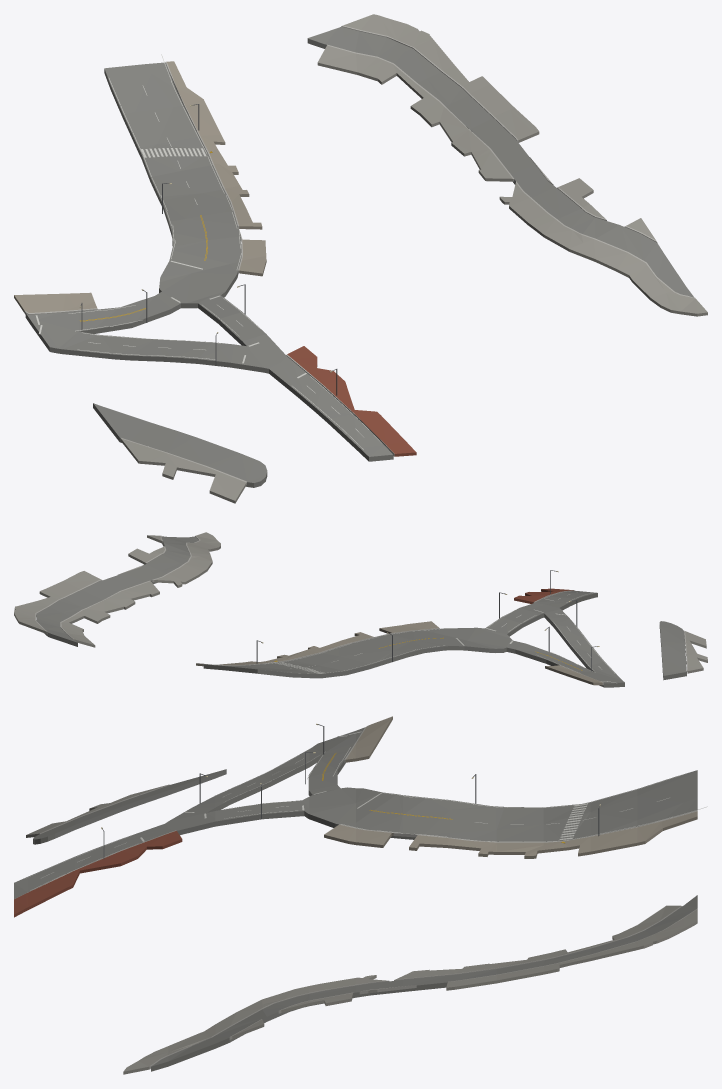
3 renders of one model, top to bottom at view 1: azimuth 30°, elevation 25°; view 2: azimuth 150°, elevation 25°; view 3: azimuth 270°, elevation 25°, orthographic. The views are drawn at different scales.
Bounding box in the file's own units: 147 × 38.7 × 148.
